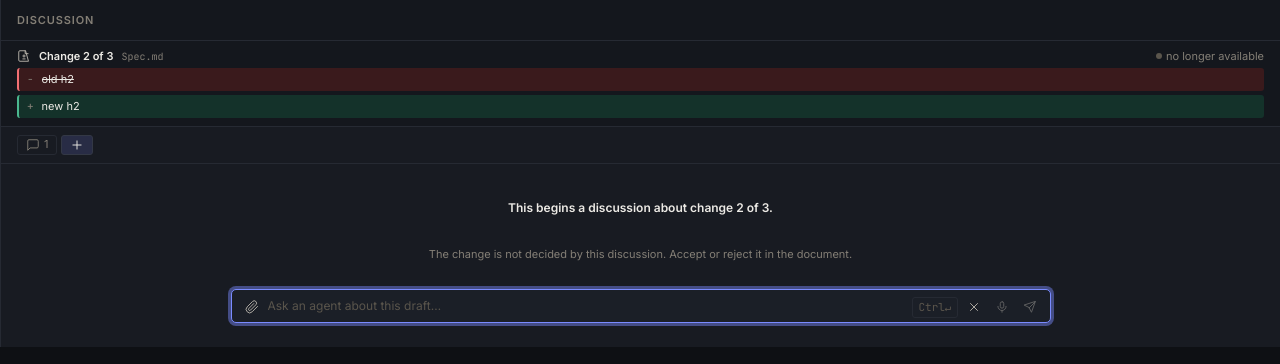
Test: DDS-FR-YLRM: leaving the composer of a hunk discussion › DDS-FR-YLRM: a tab leaves it for the discussion chosen, and the typed text stays
Type "draft text" into the text box named "Discuss this draft". click: (588, 306)
box: [268,294,908,318]
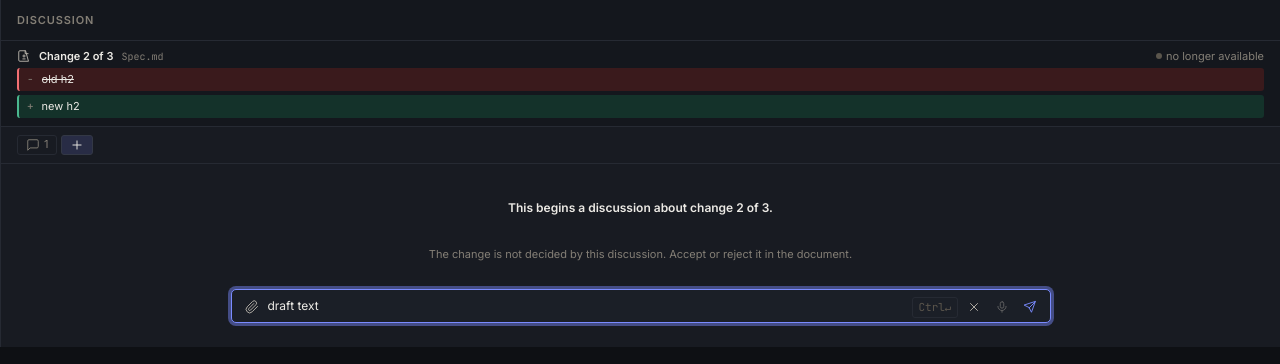
Click the tab "1". click: click(37, 144)
box: [17,134,58,154]
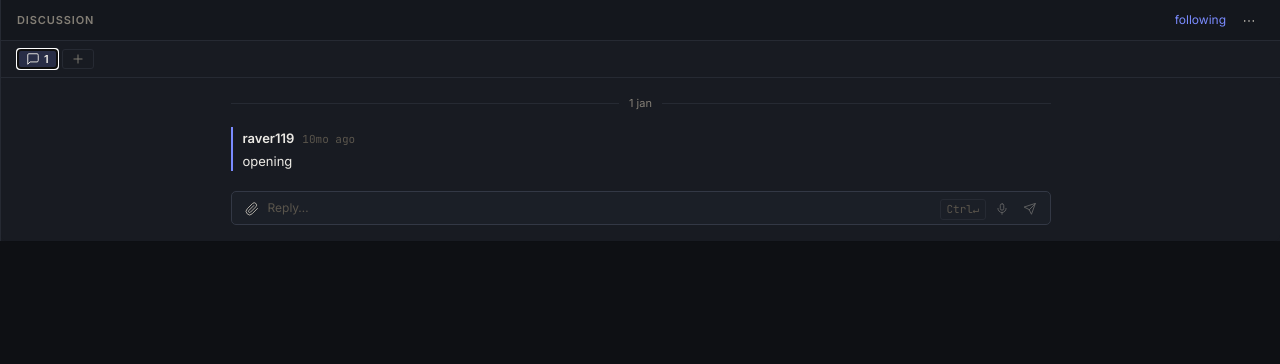
Now the element with test id "comment-thread-disc-1" is shown, box [1,78,1279,241]
Now the element with test id "discussion-subject" is gone
Now the text "This begins a discussion about change" is gone
The text waits in the draft's composer for the next discussion.
Click the button with test id "discussion-new". click: click(78, 59)
box: [62,49,94,69]
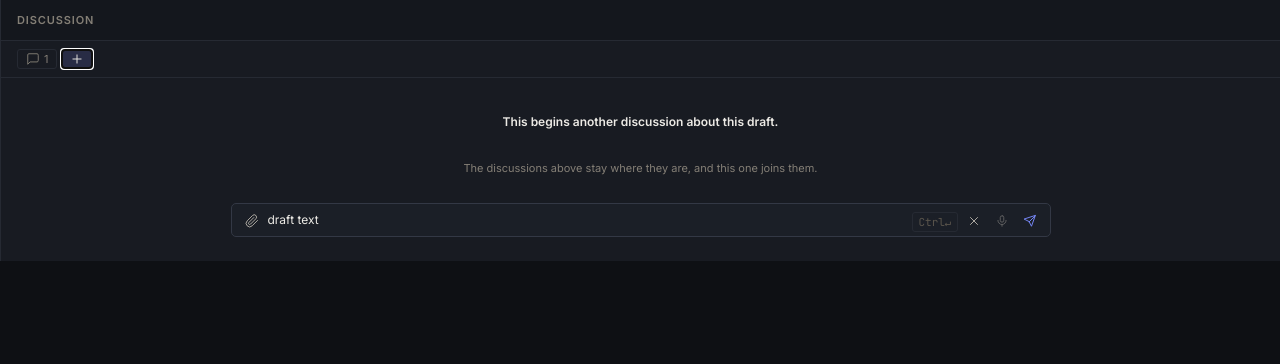
Now the text box named "Discuss this draft" holds "draft text", box [268,208,908,232]
